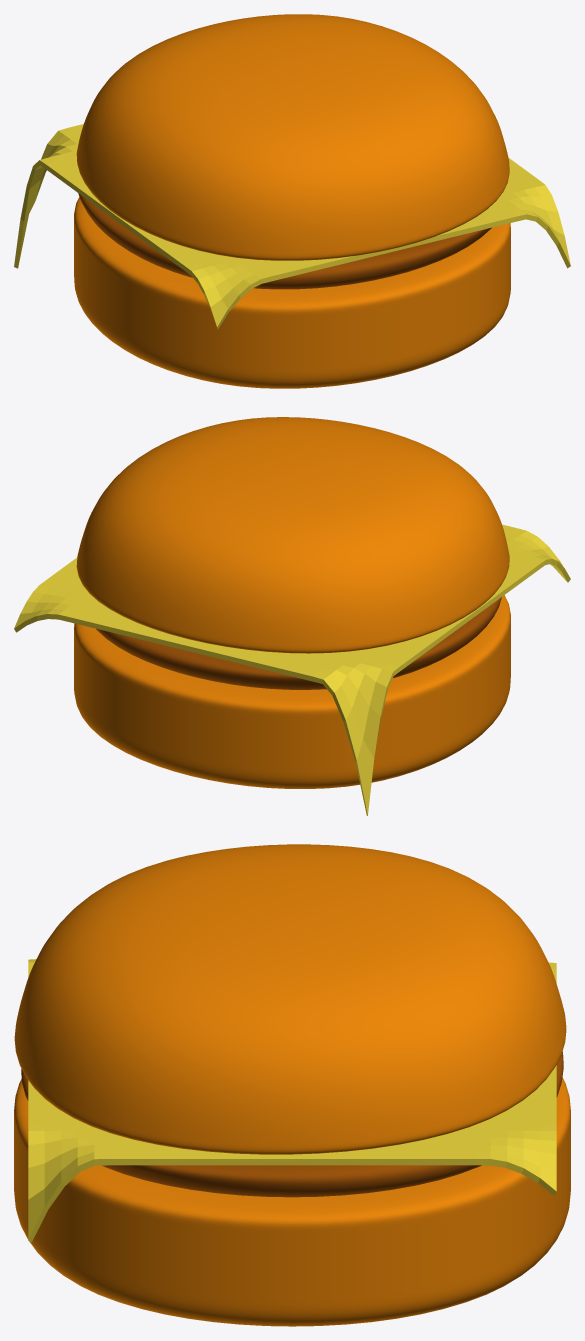
The model's file is hamburguer.glb.
The picture shows the model from 3 angles, top to bottom: view 1: azimuth 30°, elevation 25°; view 2: azimuth 150°, elevation 25°; view 3: azimuth 270°, elevation 25°; orthographic projection. The views are drawn at different scales.
Parts seen in each view (by area): view 1: Cube.002, Cube, Plane, Cube.001; view 2: Cube.002, Cube, Plane, Cube.001; view 3: Cube.002, Cube, Plane, Cube.001.
Part boxes in pixels (<box>): Cube.002: <box>76,14,509,260</box>; Cube: <box>74,197,510,388</box>; Plane: <box>14,124,570,329</box>; Cube.001: <box>78,193,491,289</box>; Cube.002: <box>76,417,509,653</box>; Cube: <box>74,595,510,788</box>; Plane: <box>14,524,570,815</box>; Cube.001: <box>96,597,501,689</box>; Cube.002: <box>14,844,566,1154</box>; Cube: <box>14,1077,570,1326</box>; Plane: <box>28,959,556,1242</box>; Cube.001: <box>21,1051,563,1197</box>.
Bounding box in the file's own units: 6.16 × 4.03 × 6.16.
